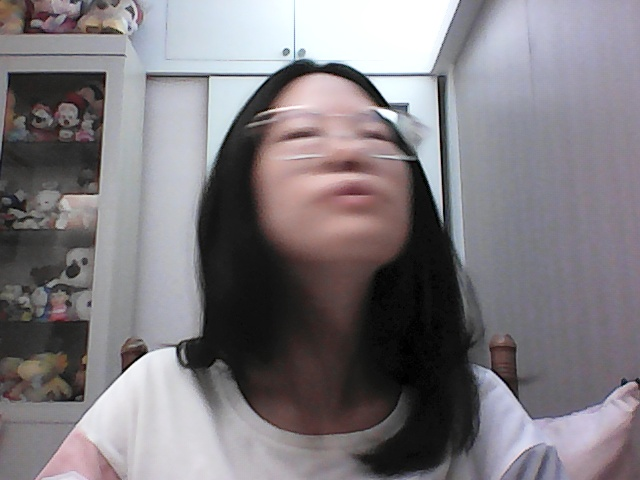NoMask: (247, 134, 430, 280)
